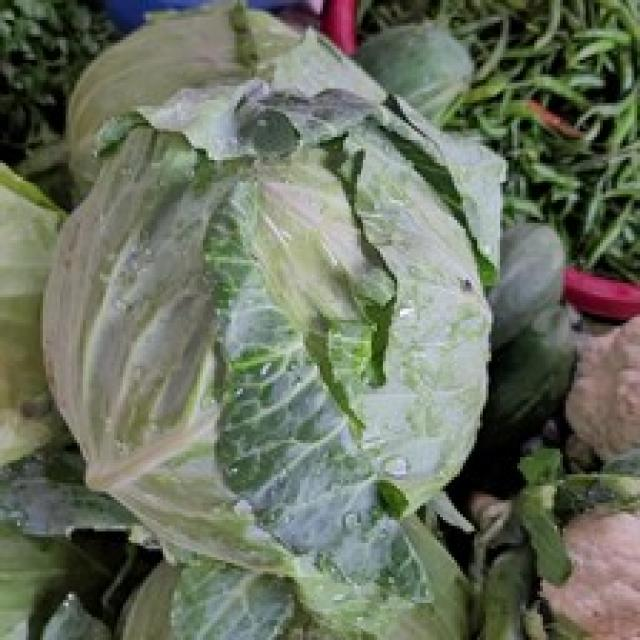Cabbage: (42, 61, 488, 553)
